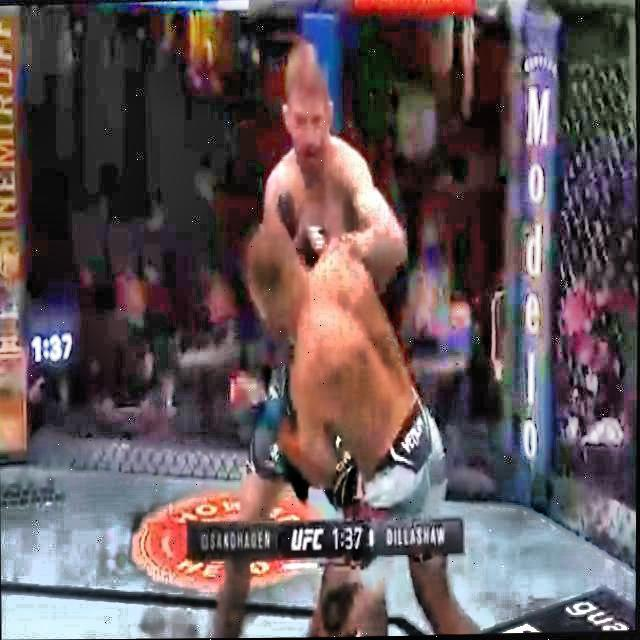low-guard: (281, 42, 337, 228)
